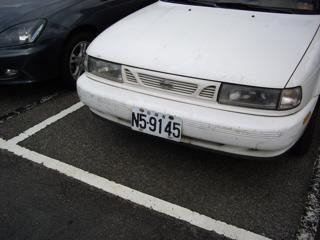plate: (129, 103, 183, 145)
